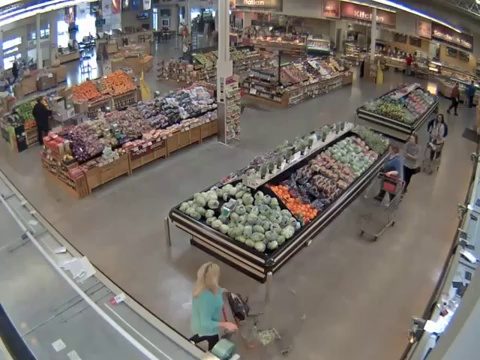face: (409, 135, 416, 145), (388, 145, 395, 155), (436, 115, 444, 123)
